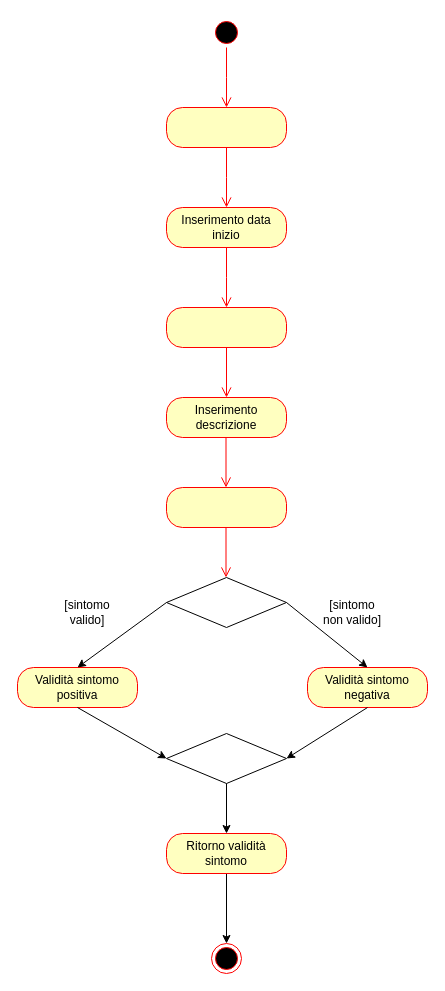
Image size: 445x991. Some labels were removed from this diagram. Here are the shapes that lost their labels. From the top down, the centre of each, then its label:
point (226, 127): Inserimento nome sintomo
point (226, 327): Inserimento eventuale data fine
point (226, 507): Controllo validità sintomo
